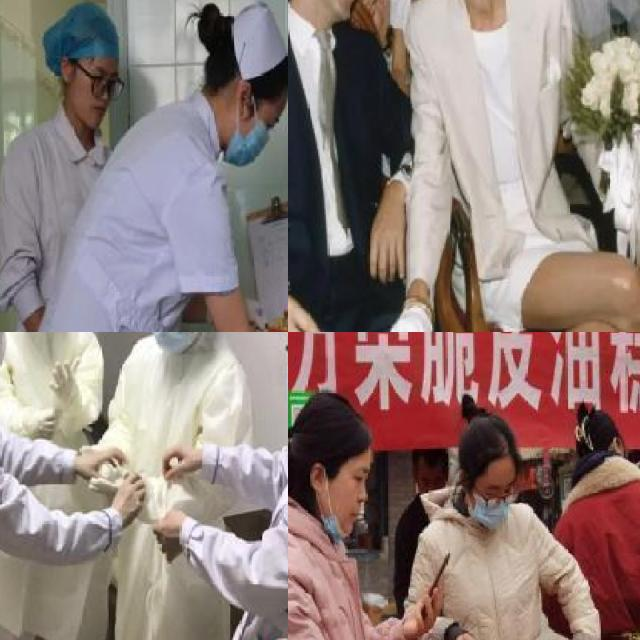face_mask: (218, 93, 276, 175), (251, 332, 288, 444), (472, 464, 513, 534)
face_nomask: (313, 454, 387, 538), (65, 54, 127, 120)
glasses: (483, 487, 519, 515)
hand_glove: (49, 356, 84, 402), (386, 307, 437, 332), (35, 406, 62, 440)
hand_noglove: (366, 210, 407, 286), (403, 585, 439, 640), (112, 472, 146, 529), (158, 440, 202, 484), (155, 511, 189, 563), (78, 446, 127, 482), (288, 291, 324, 332), (376, 0, 392, 34), (359, 0, 378, 16)
head_nohelmet: (240, 0, 288, 125), (288, 392, 371, 463), (47, 13, 125, 75), (464, 408, 522, 473)
person: (384, 0, 640, 332), (56, 4, 288, 332), (288, 0, 435, 332), (410, 401, 597, 640), (5, 0, 120, 321), (288, 389, 396, 640), (529, 404, 640, 640), (219, 332, 288, 640)
